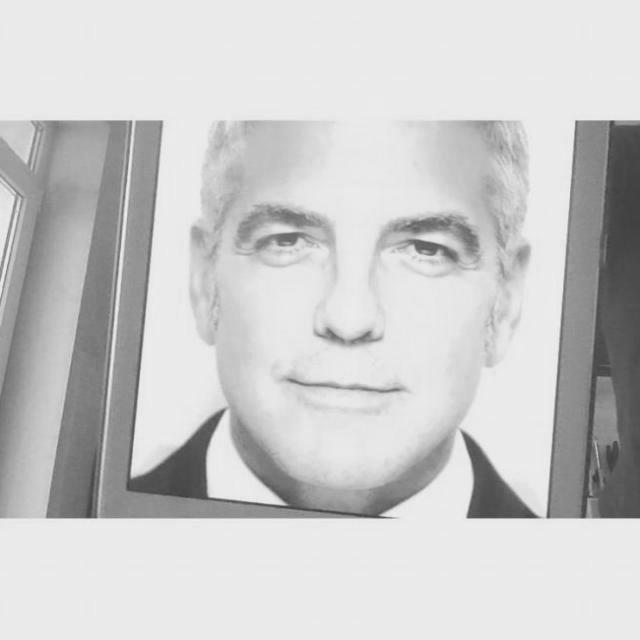fake: (82, 119, 624, 517)
